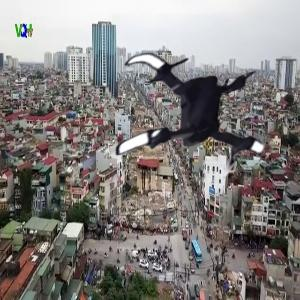drone: (107, 25, 290, 208)
